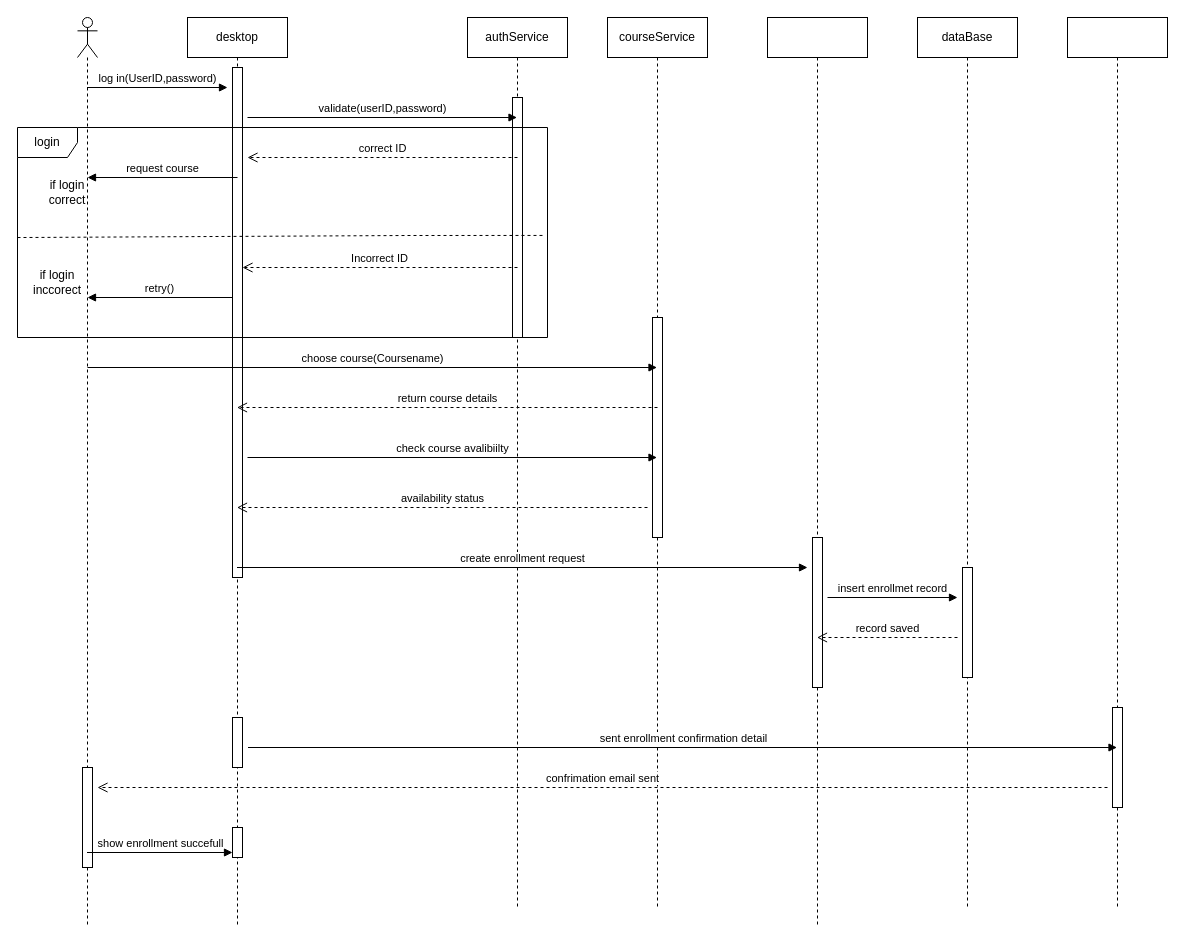
Image size: 1185x945. Some labels were removed from this diagram. Each missing label, with the box of its shape:
emailService: (1066, 16, 1168, 908)
enrollmentService: (766, 16, 868, 928)
